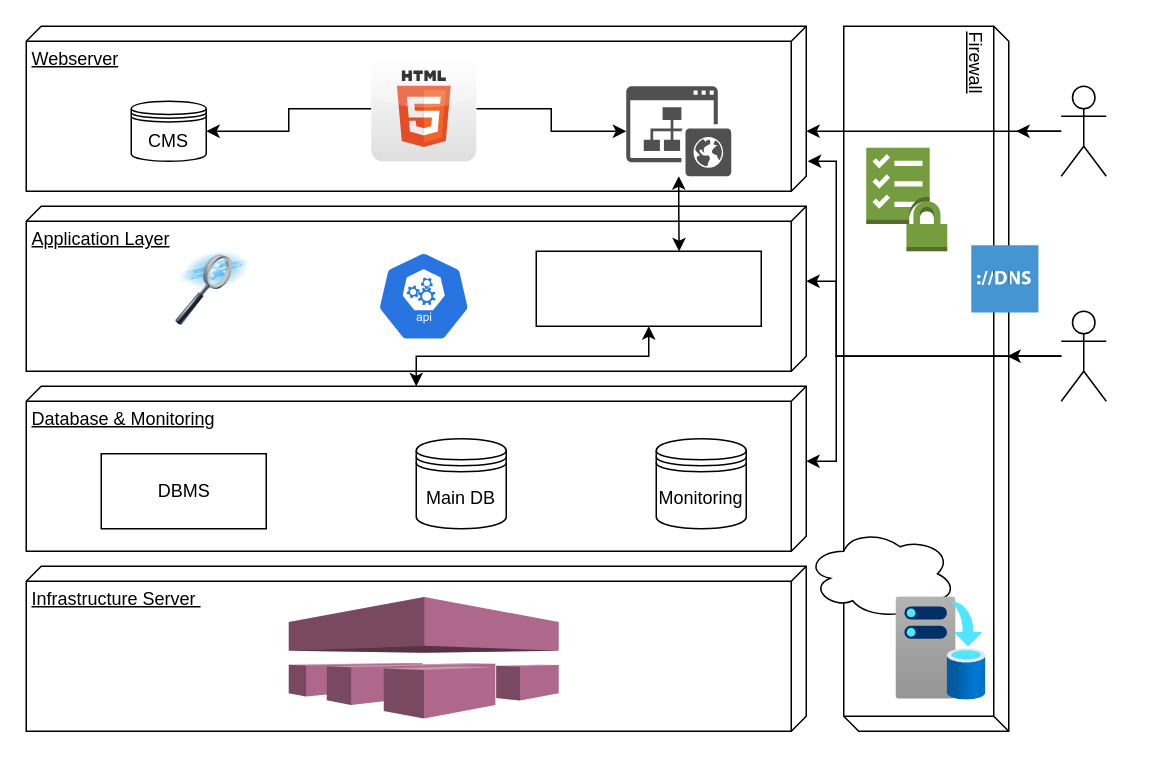
Some shapes in this 1151 by 758 pixel diagram are drawn without their labels. Here are the shapes that lost their labels. From the top down, the centre of each, then its label:
At [1083,130]: "User".
At [213,288]: "Elastic Search & Matching Tool".
At [648,288]: "«API» Cyclos Talente Netz Tirol".
At [1083,355]: "Developer".
At [880,573]: "Cloud".
